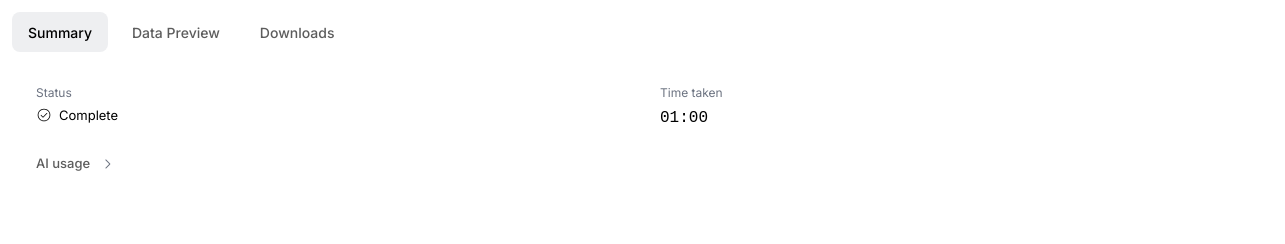
Test case: ResultsView — P4 › Retry button re-fetches after a failed load
Click the button "Data Preview": (176, 32) [116,12,236,52]
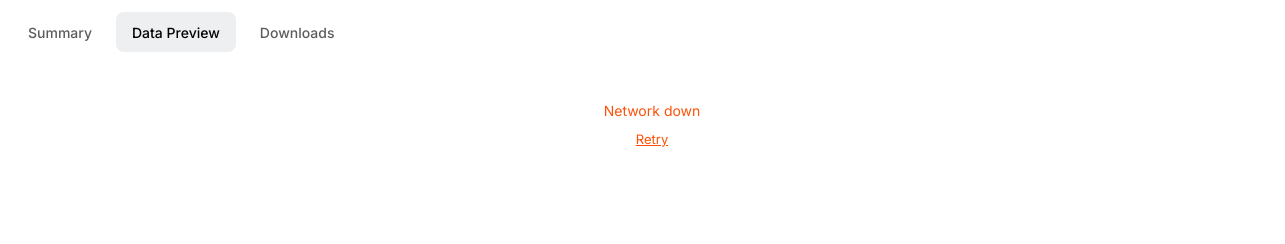
Now the text "Network down Retry" is shown, box [604,102,700,150]
Click the button "Retry": (652, 140) [630,129,674,150]
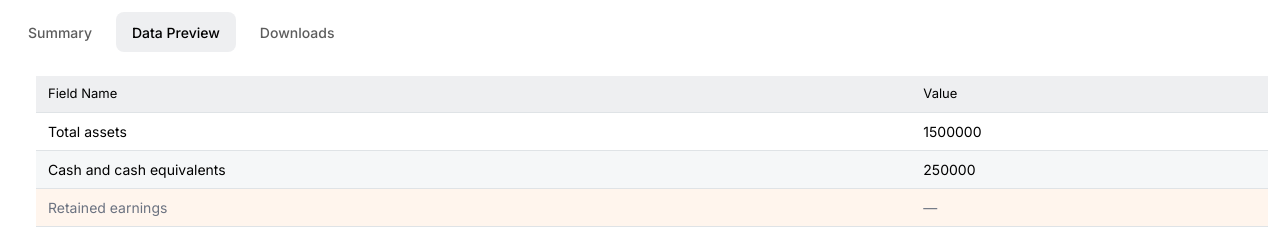
Now the text "Total assets" is shown, box [36,112,911,150]
